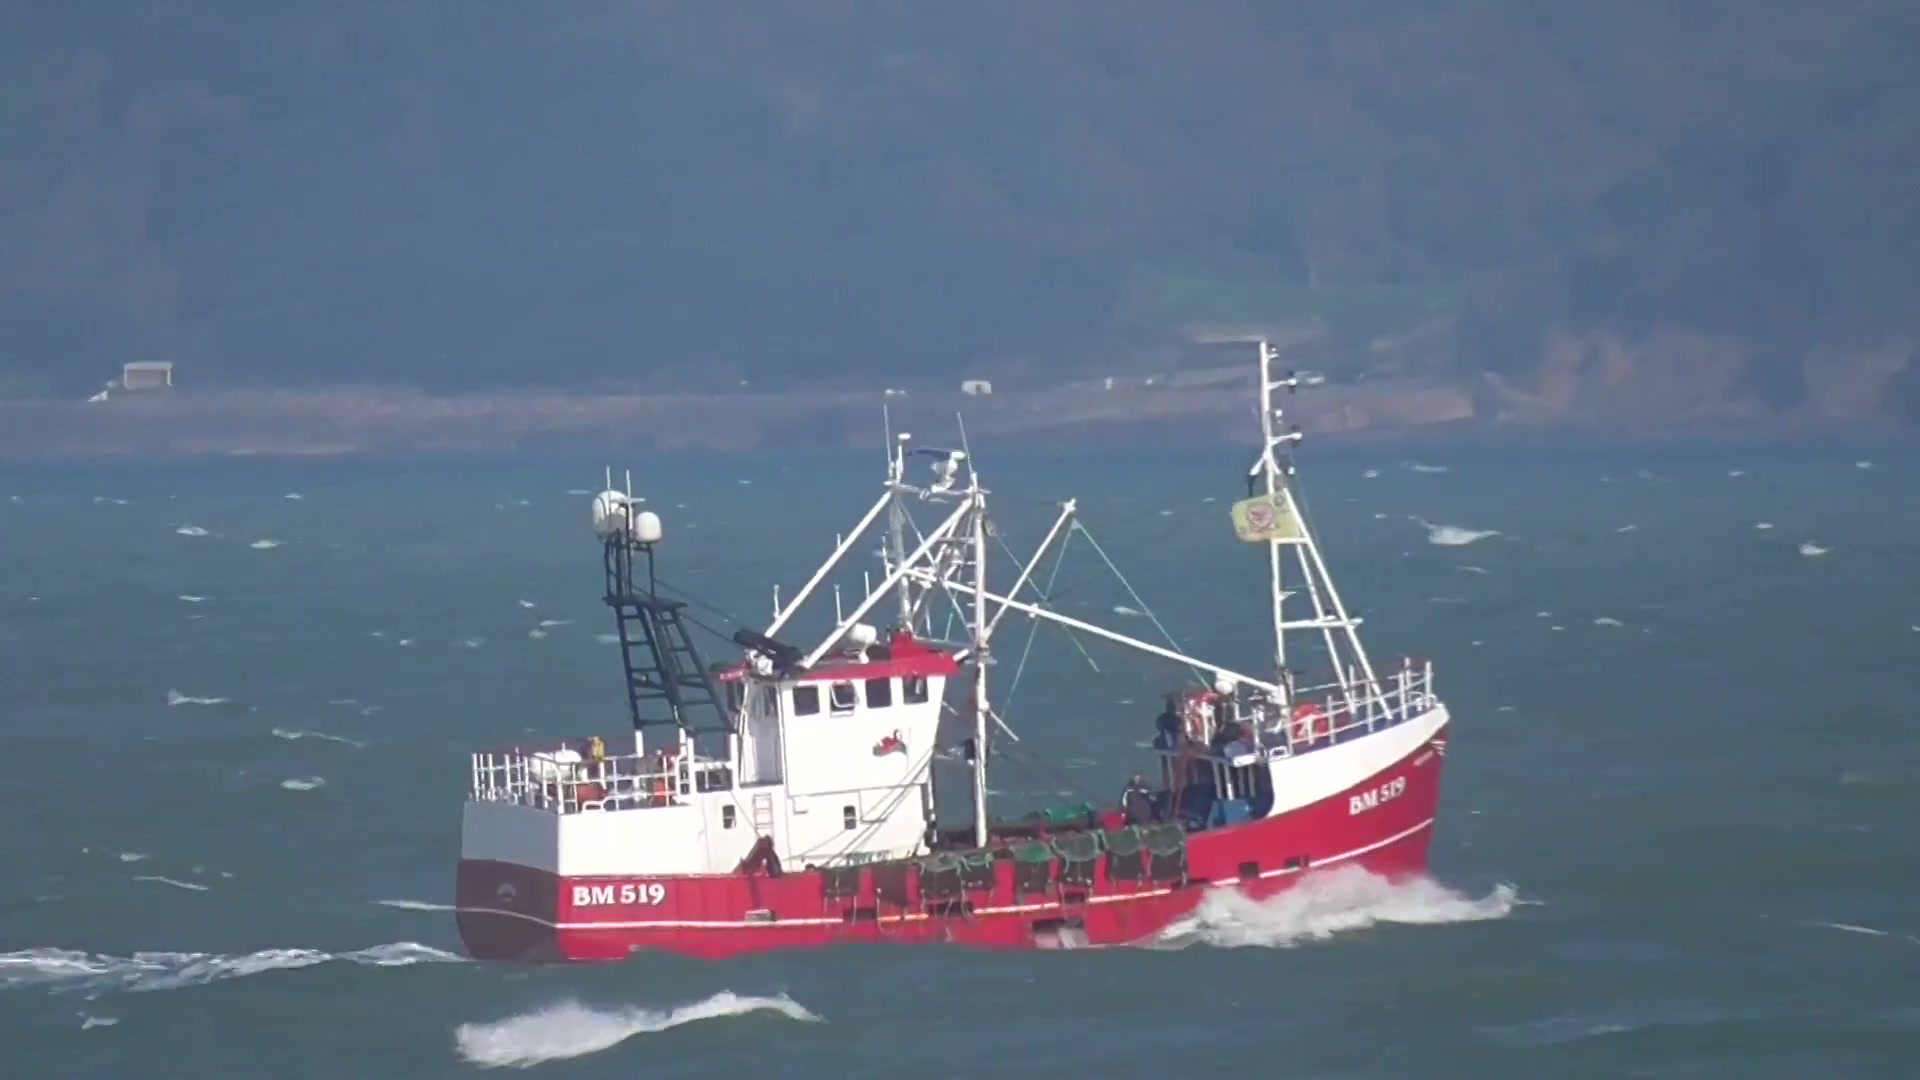CommonShip: (435, 363, 1456, 939)
